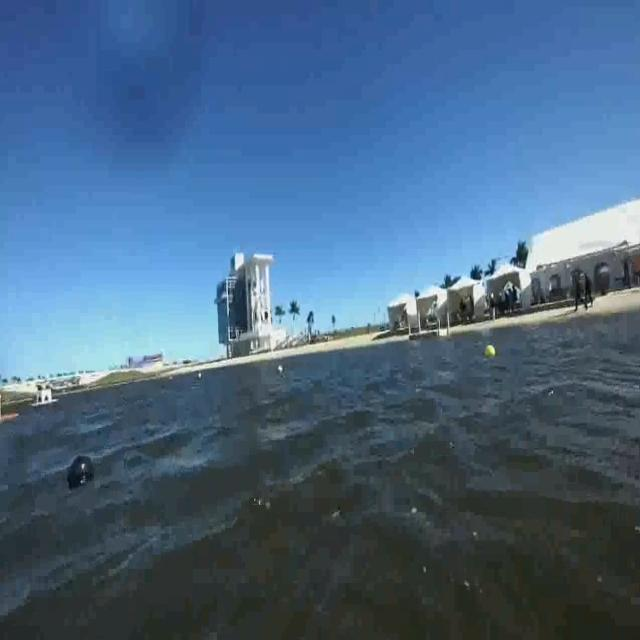black-buoy: (66, 453, 94, 488)
yellow-buoy: (485, 342, 497, 360)
